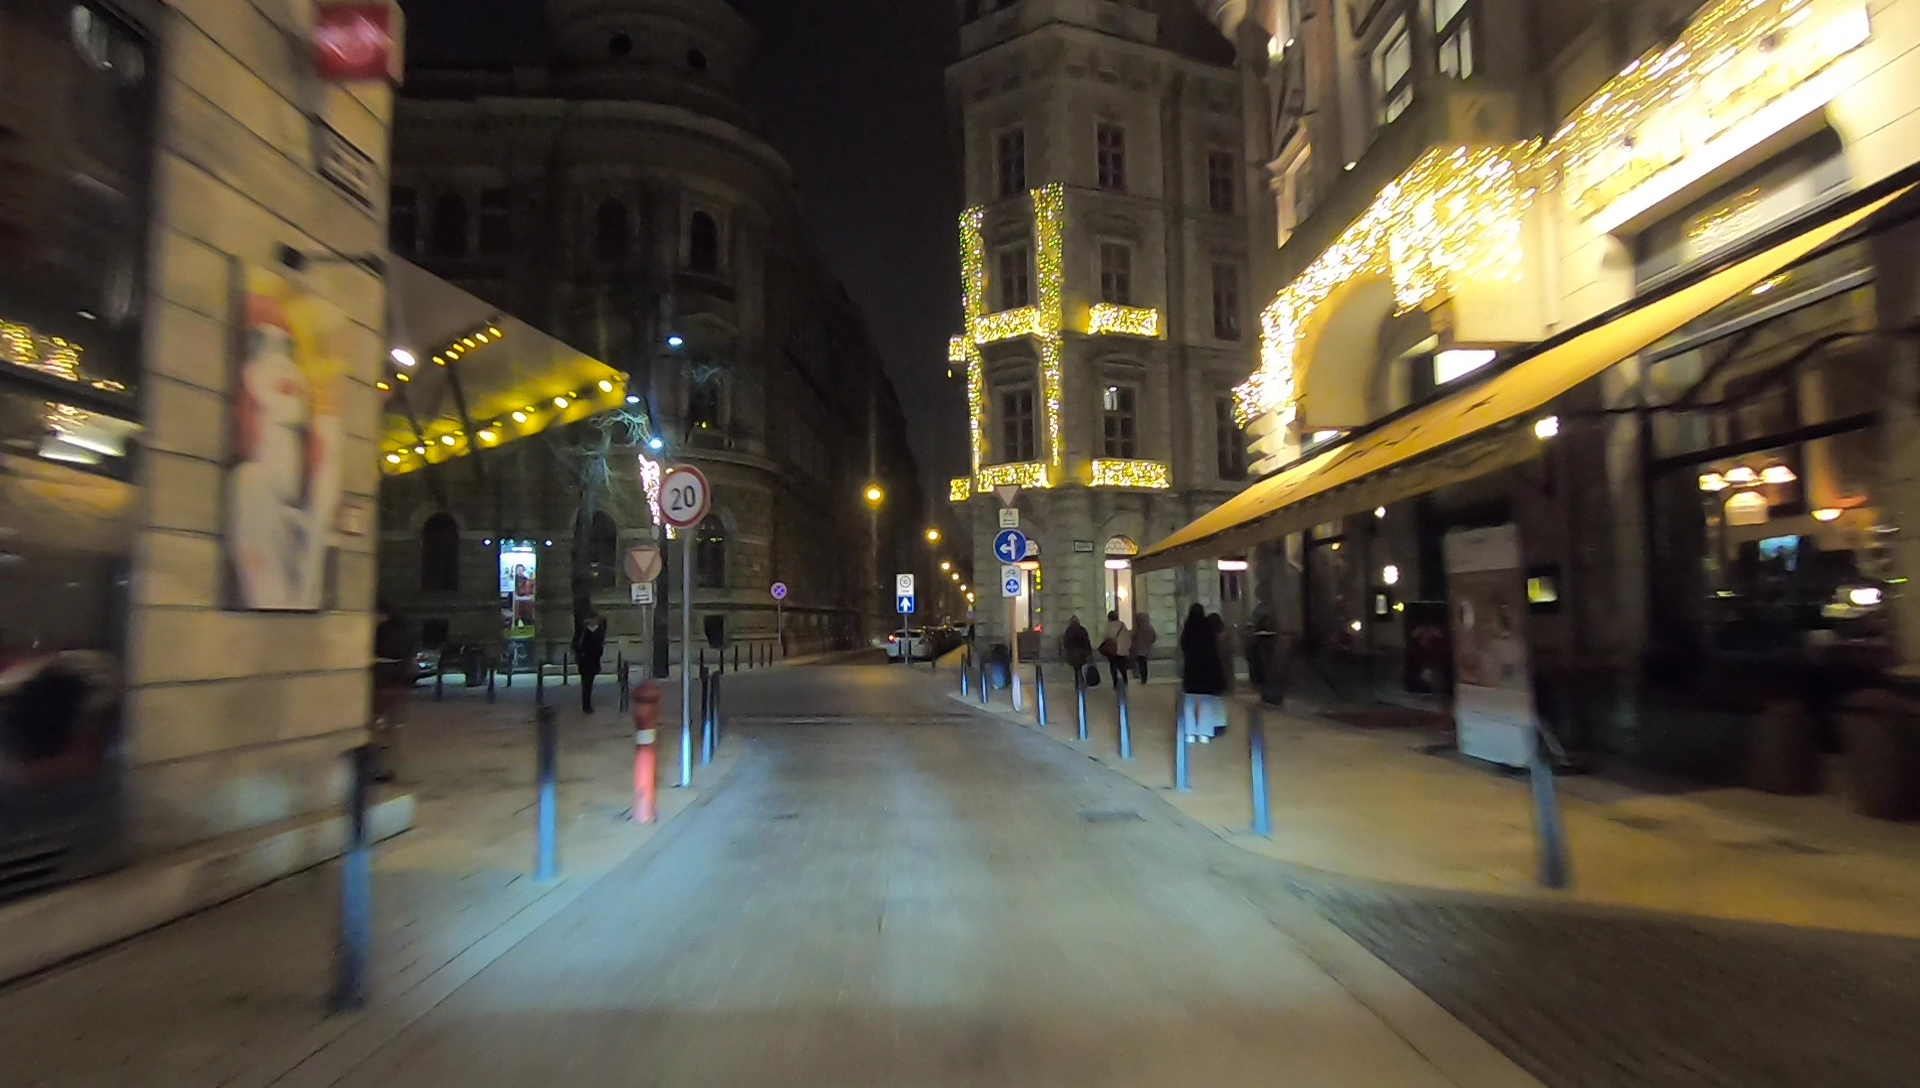person: (1175, 597, 1228, 745), (571, 608, 604, 715), (1062, 613, 1093, 695), (1102, 606, 1130, 693), (1130, 608, 1156, 687)
